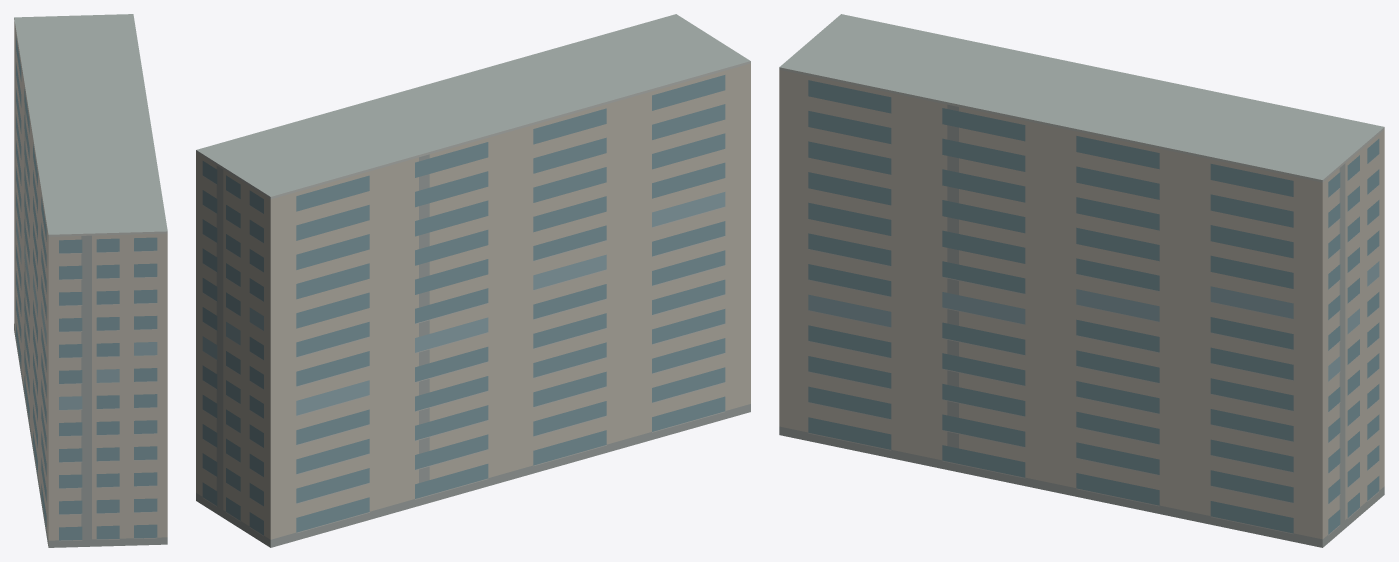
File: residential-ab80f564-50e3-43dd-a8bd-7aba99e43356.glb
3 renders of one model, left to right at view 1: azimuth 30°, elevation 25°; view 2: azimuth 150°, elevation 25°; view 3: azimuth 270°, elevation 25°, orthographic. The views are drawn at different scales.
Parts seen in each view (by area): view 1: residential-ab80f564-50e3-43dd-a8bd-7aba99e43356.tmp; view 2: residential-ab80f564-50e3-43dd-a8bd-7aba99e43356.tmp; view 3: residential-ab80f564-50e3-43dd-a8bd-7aba99e43356.tmp.
Part boxes in pixels (left/top/right/bottom): residential-ab80f564-50e3-43dd-a8bd-7aba99e43356.tmp: left=14, top=14, right=167, bottom=547; residential-ab80f564-50e3-43dd-a8bd-7aba99e43356.tmp: left=196, top=14, right=750, bottom=547; residential-ab80f564-50e3-43dd-a8bd-7aba99e43356.tmp: left=779, top=14, right=1384, bottom=547.
Size of the model in its own units: 35.47 by 36.6 by 54.61.
